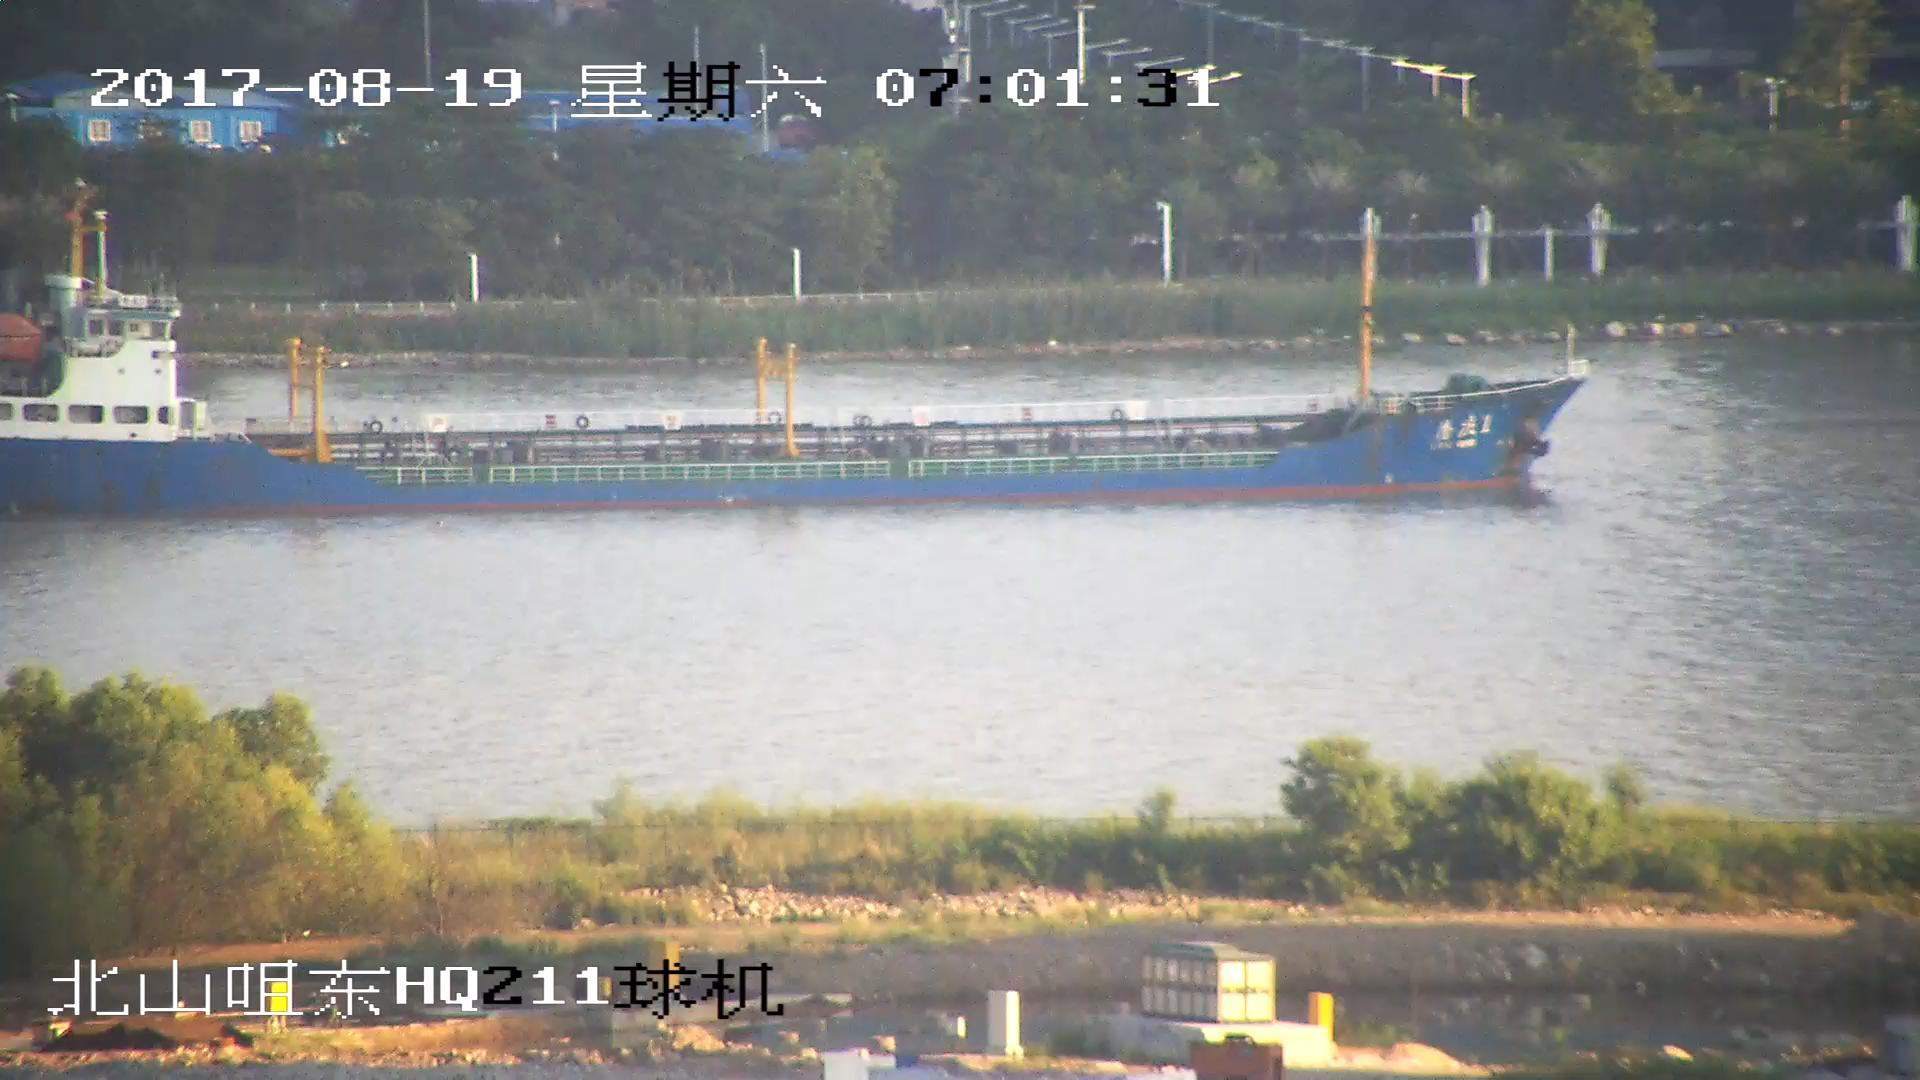Ship: (3, 215, 1578, 506)
